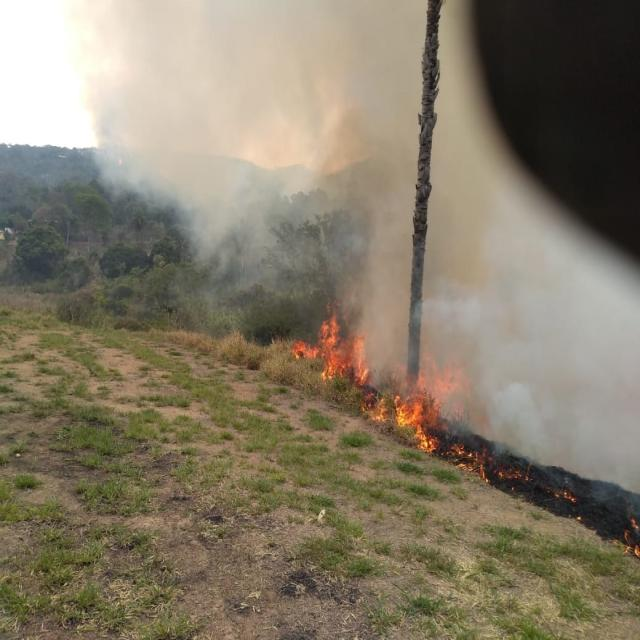fire: (369, 397, 436, 447), (310, 324, 369, 378)
smoke: (118, 4, 356, 175), (457, 236, 632, 414)
